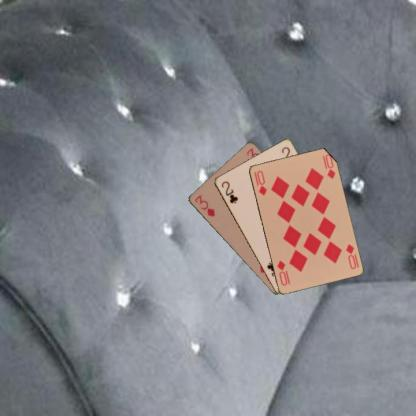10d: (343, 241, 360, 270), (251, 168, 268, 196)
2c: (219, 178, 240, 204)
3d: (191, 192, 216, 219)
